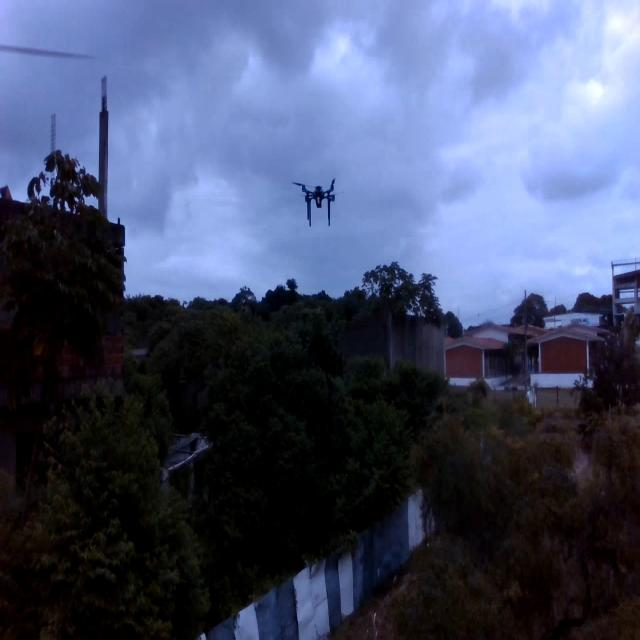-uav-: (286, 164, 346, 237)
